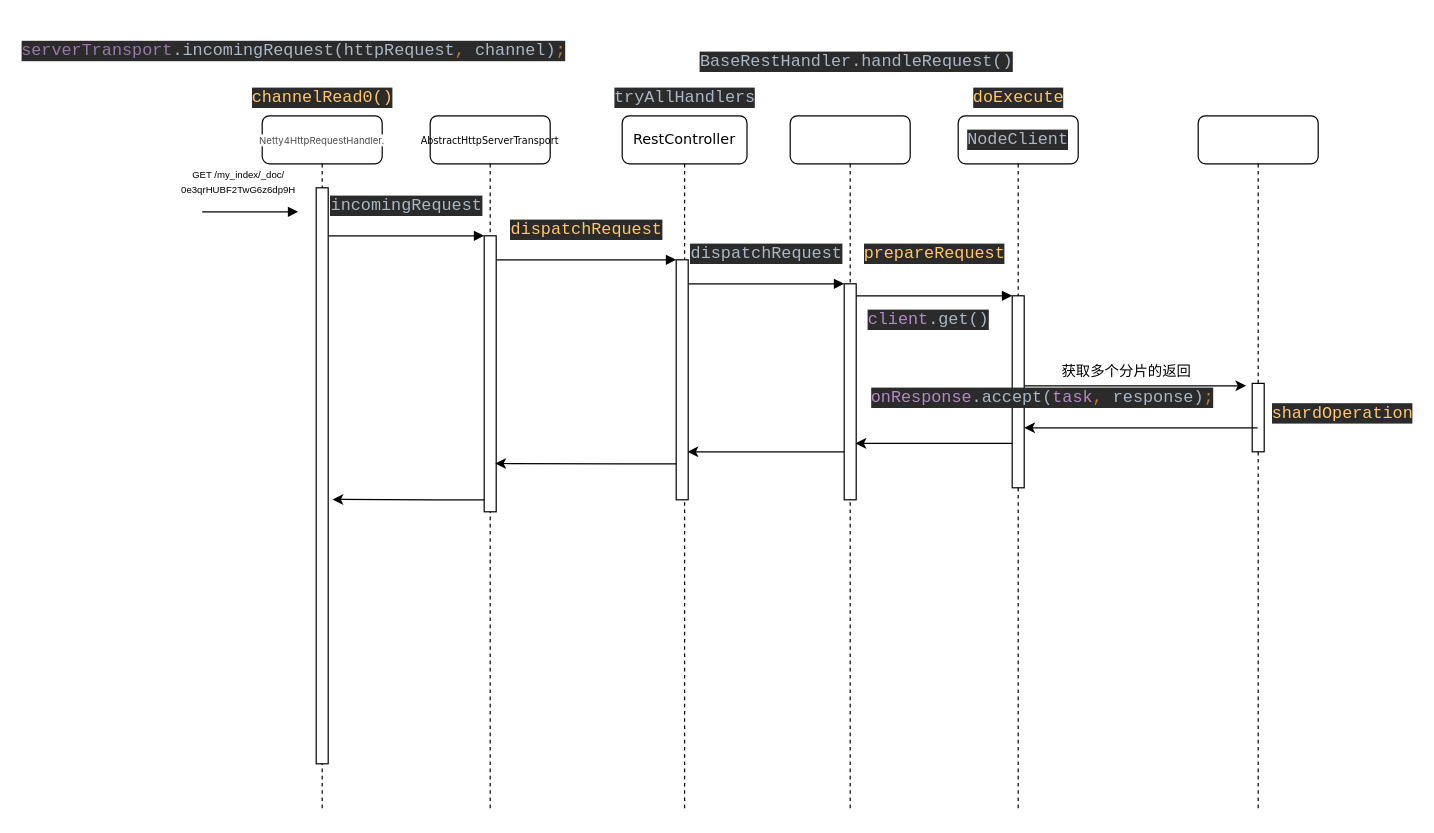
Some shapes in this 1434 by 833 pixel diagram are drawn without their labels. The centre of each missing label's shape, as x and y in pixels:
RestGetAction: pixel 849 463
TransportGetAction: pixel 1257 463
